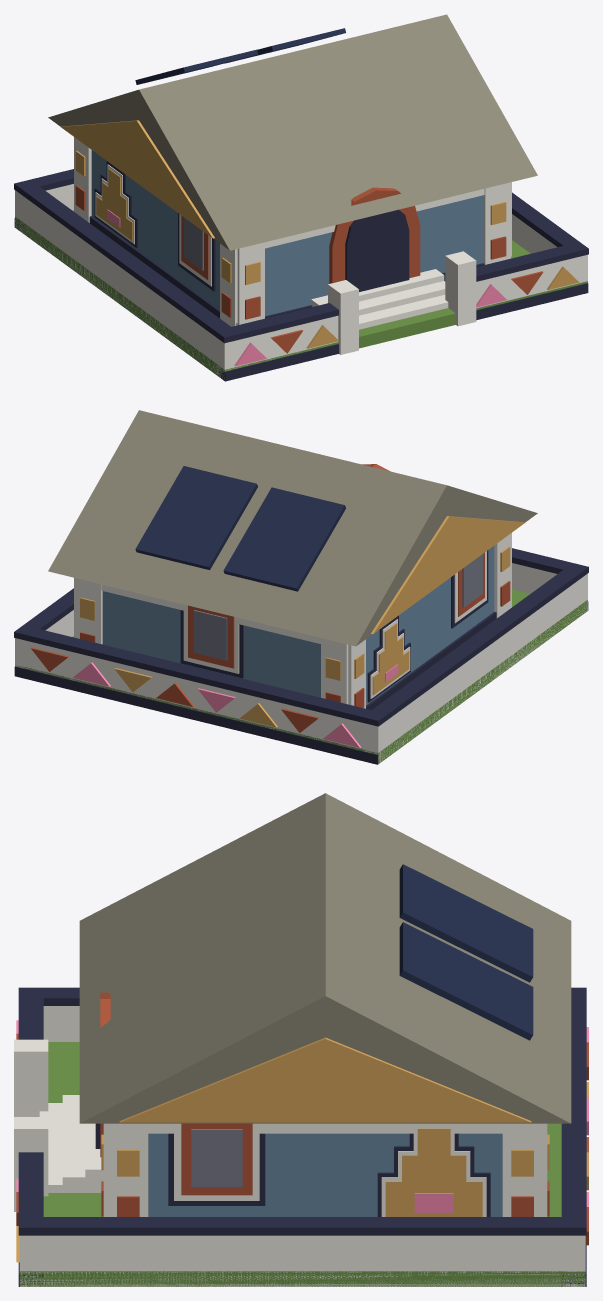
File: house-1x1-1f-ndebele-a-solar.glb
The picture shows the model from 3 angles, top to bottom: view 1: azimuth 30°, elevation 25°; view 2: azimuth 150°, elevation 25°; view 3: azimuth 270°, elevation 25°; orthographic projection. The views are drawn at different scales.
Visible parts, largest first — view 1: house-1x1-1f-ndebele-a-solar; view 2: house-1x1-1f-ndebele-a-solar; view 3: house-1x1-1f-ndebele-a-solar.
Boxes of the visible parts, x1,y1,x2,y2 form: house-1x1-1f-ndebele-a-solar: (14, 14, 588, 381); house-1x1-1f-ndebele-a-solar: (14, 410, 588, 764); house-1x1-1f-ndebele-a-solar: (14, 793, 588, 1286).
Bounding box in the file's own units: 0.994 × 0.5265 × 1.01.
Materials: 1 (1 with a texture image).
